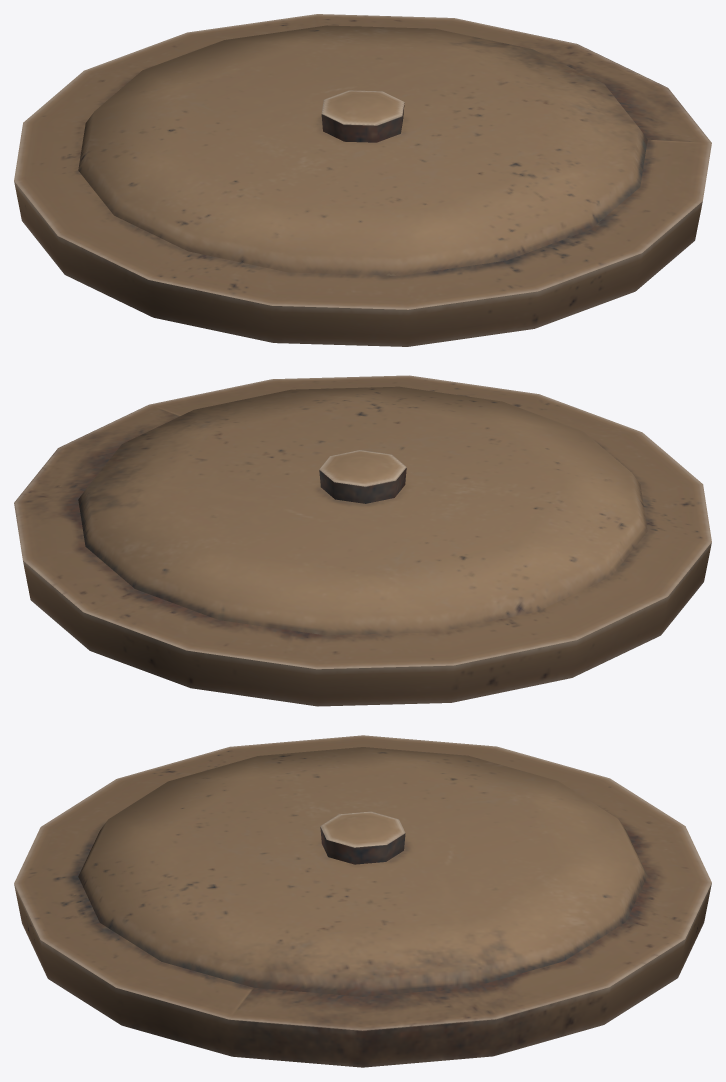
3 renders of one model, top to bottom at view 1: azimuth 30°, elevation 25°; view 2: azimuth 150°, elevation 25°; view 3: azimuth 270°, elevation 25°, orthographic.
Visible parts, largest first — view 1: submesh_0; view 2: submesh_0; view 3: submesh_0.
Part boxes in pixels (box(x1,y1,x2,y2)): submesh_0: box(14, 14, 711, 346); submesh_0: box(14, 375, 711, 706); submesh_0: box(14, 735, 711, 1067).
Bounding box in the file's own units: 0.7331 × 0.1174 × 0.7327.
1 material, 1 textured.
